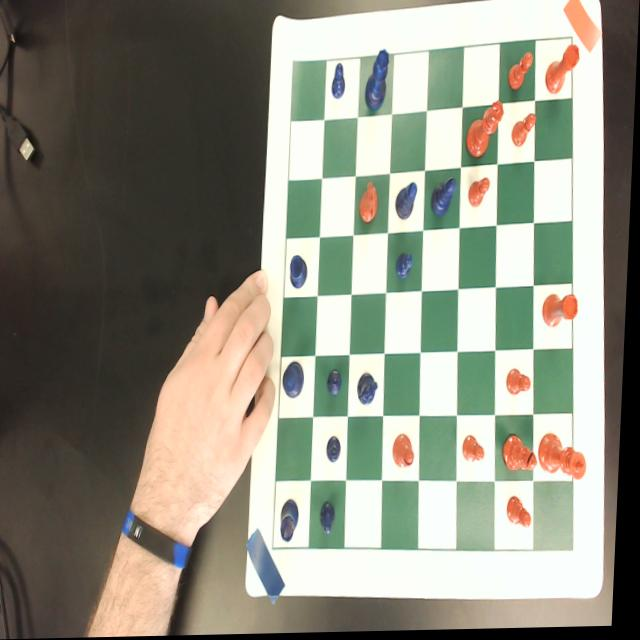B: (433, 178, 458, 221), (397, 182, 419, 222)
K: (285, 362, 309, 401)
N: (360, 375, 382, 409)
P: (324, 502, 341, 537), (332, 63, 347, 102), (397, 254, 416, 282), (329, 370, 346, 399), (330, 437, 346, 465)
Q: (366, 50, 390, 114)
R: (284, 500, 304, 543), (292, 255, 311, 291)
b: (505, 436, 543, 481), (397, 435, 420, 471)
cb: (278, 40, 578, 553)
k: (542, 433, 592, 484)
n: (360, 183, 381, 225)
p: (508, 54, 534, 94), (512, 114, 538, 150), (511, 497, 537, 531), (465, 435, 490, 466), (469, 178, 492, 210), (509, 370, 535, 398)
q: (466, 102, 506, 160)
r: (545, 45, 581, 98), (544, 291, 582, 332)
